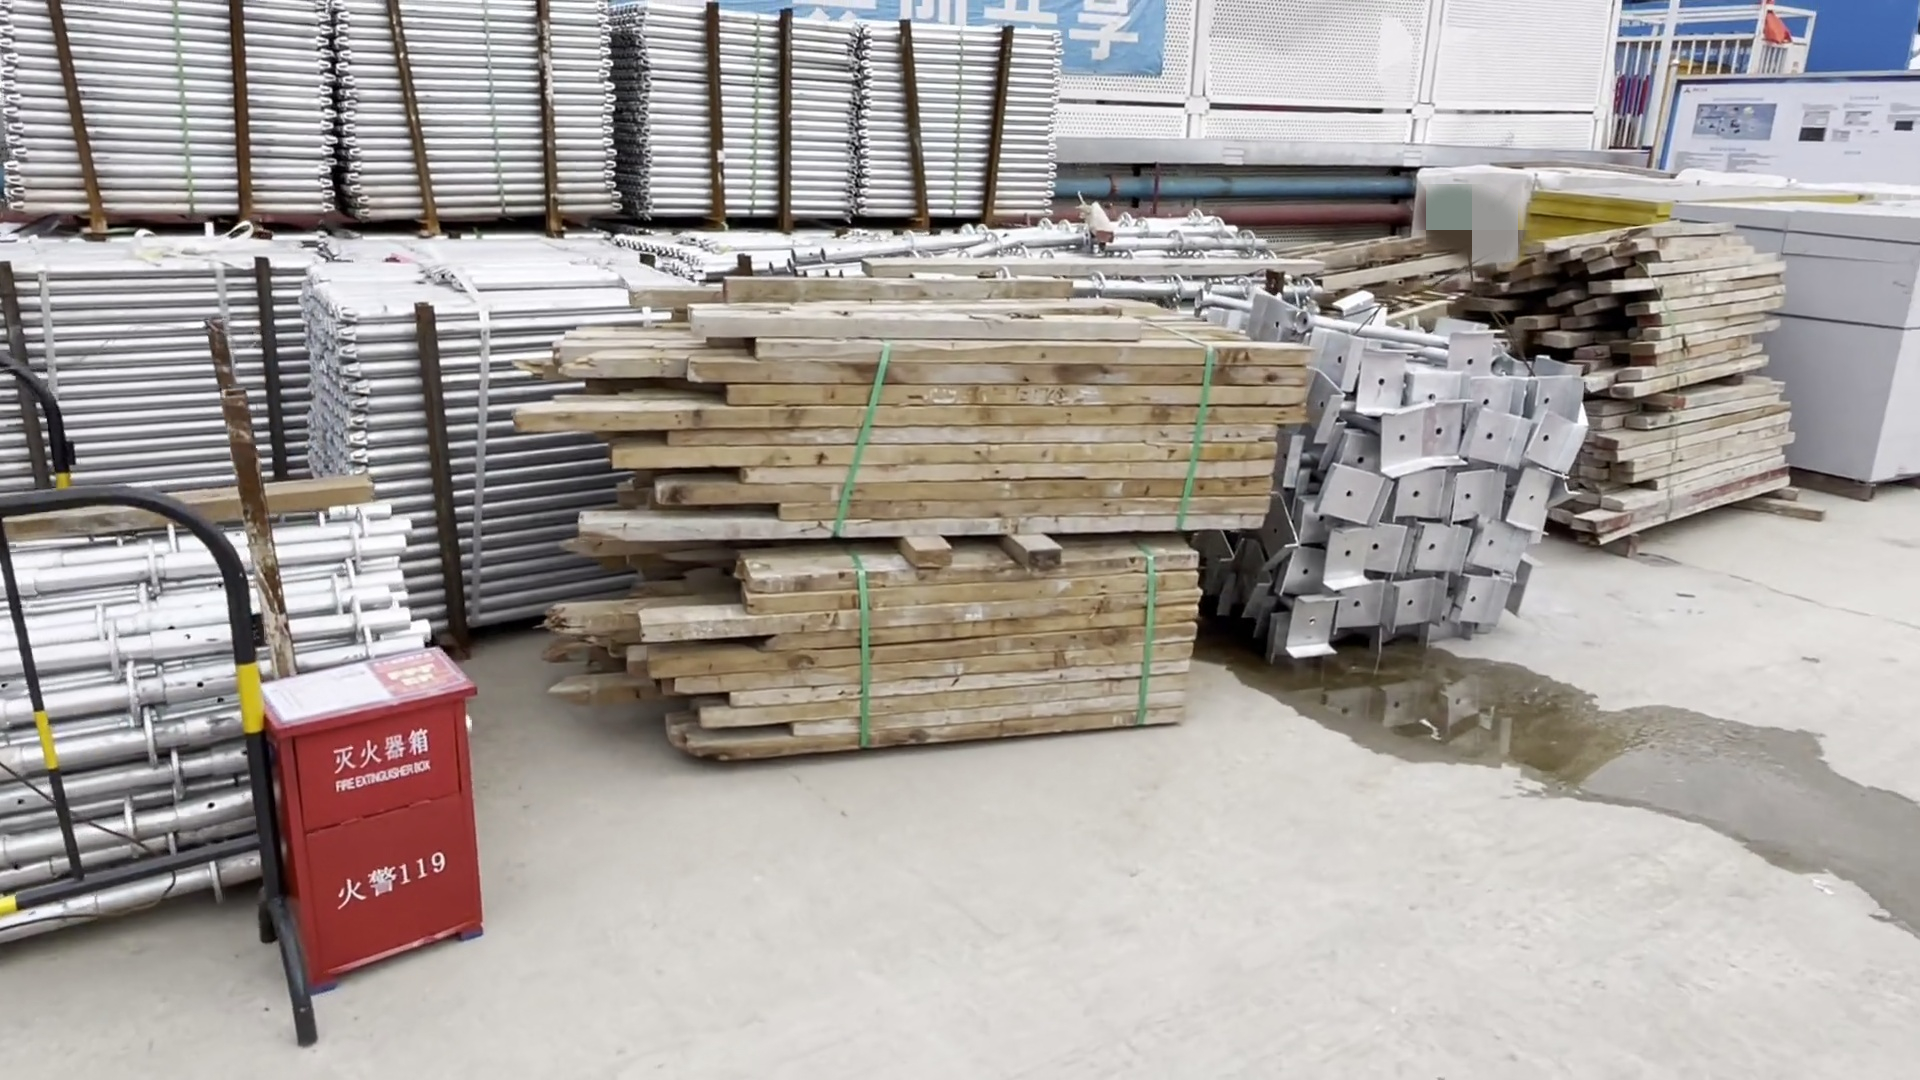scaffold: (18, 5, 1036, 229)
wood: (562, 303, 1265, 753)
